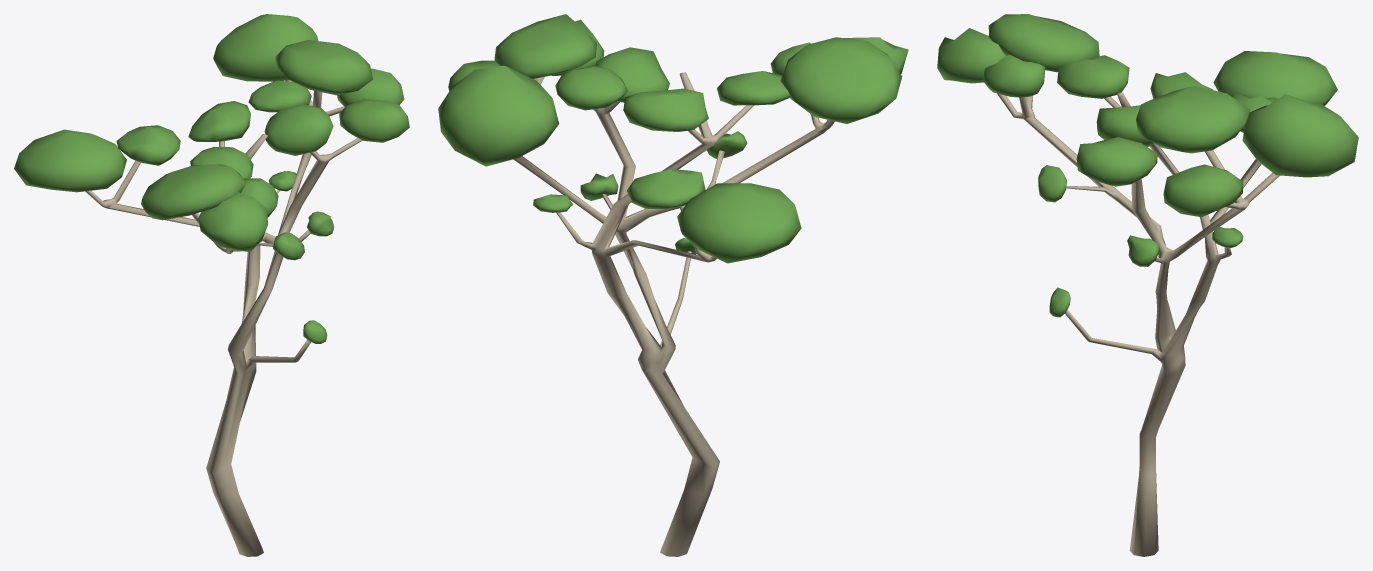
Rendered from Vegetacao-Arvore-Tipo-01-04.fbx.
3 views of the same model, side by side, from view 1: azimuth 30°, elevation 25°; view 2: azimuth 150°, elevation 25°; view 3: azimuth 270°, elevation 25° (orthographic). The views are drawn at different scales.
Parts seen in each view (by area): view 1: Vegetacao-Arvore-Tipo-01-04; view 2: Vegetacao-Arvore-Tipo-01-04; view 3: Vegetacao-Arvore-Tipo-01-04.
Boxes of the visible parts, bbox=[...] form: Vegetacao-Arvore-Tipo-01-04: bbox=[14, 14, 409, 556]; Vegetacao-Arvore-Tipo-01-04: bbox=[438, 14, 908, 556]; Vegetacao-Arvore-Tipo-01-04: bbox=[937, 14, 1358, 556].
Bounding box in the file's own units: 196 × 256 × 194.
